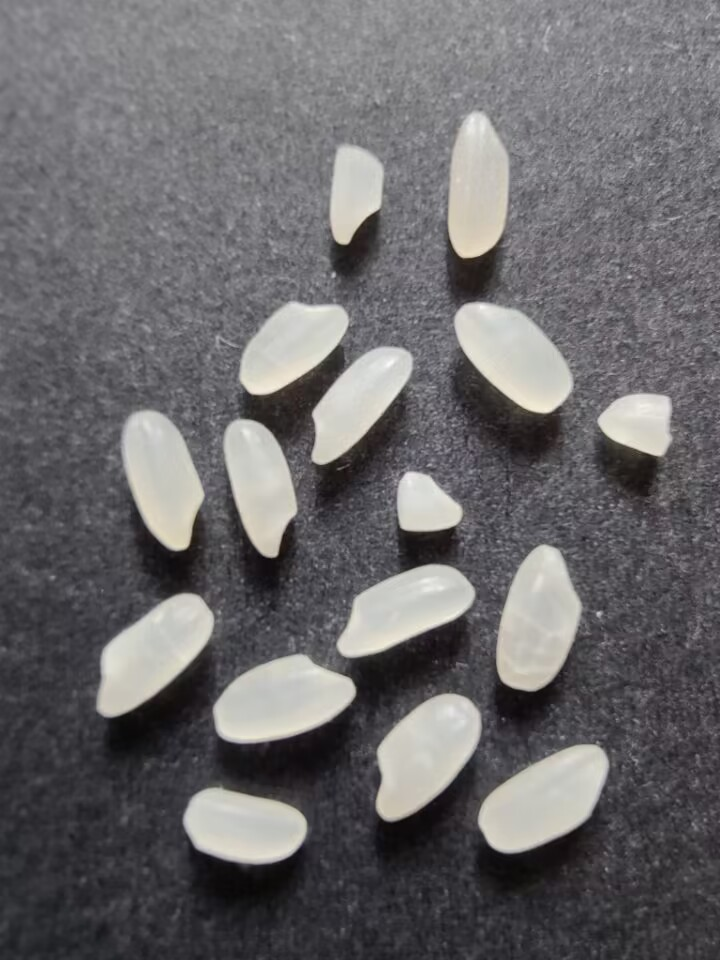broken: (179, 782, 310, 867), (591, 385, 678, 462), (327, 145, 390, 250), (389, 465, 467, 540)
rice: (474, 740, 613, 859), (93, 589, 219, 720), (370, 688, 484, 827), (208, 646, 357, 749), (490, 538, 587, 695), (449, 299, 579, 415), (327, 562, 479, 660), (308, 340, 416, 468), (118, 405, 207, 558), (218, 419, 301, 563), (235, 296, 352, 397), (441, 110, 511, 266)
